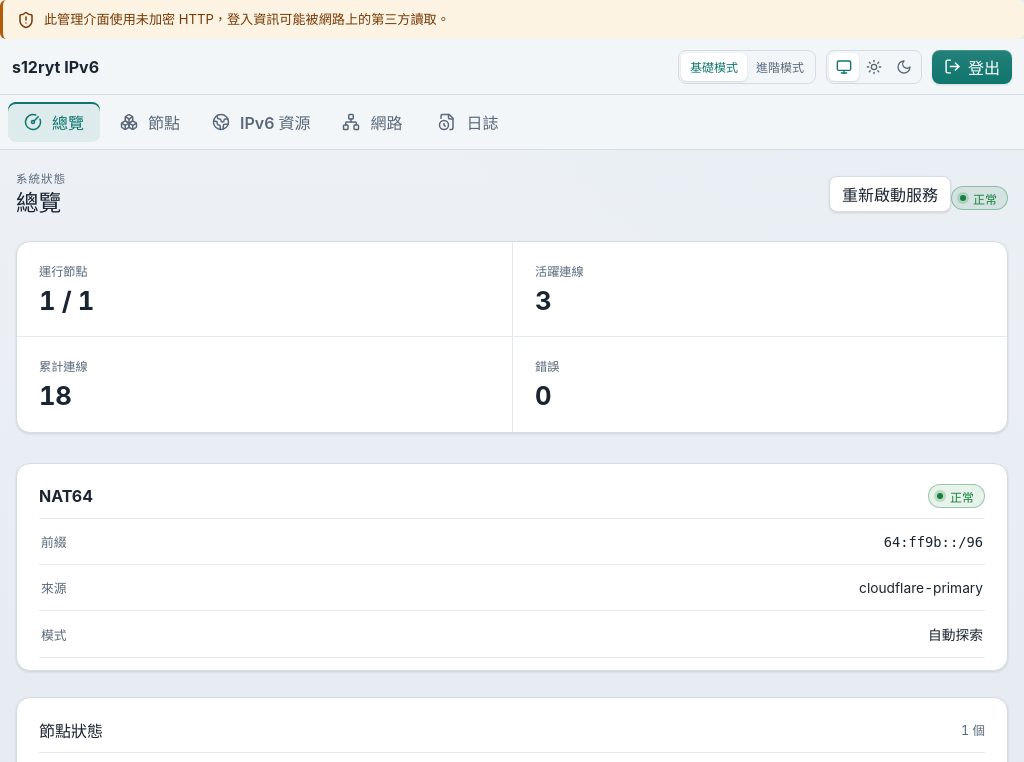
Test: App › 在總覽頁經二次確認重新啟動服務並等待恢復
Expected: the heading "總覽" is shown, [16,188,66,219]
Click the button "重新啟動服務" at (890, 194), box [829,176,951,212]
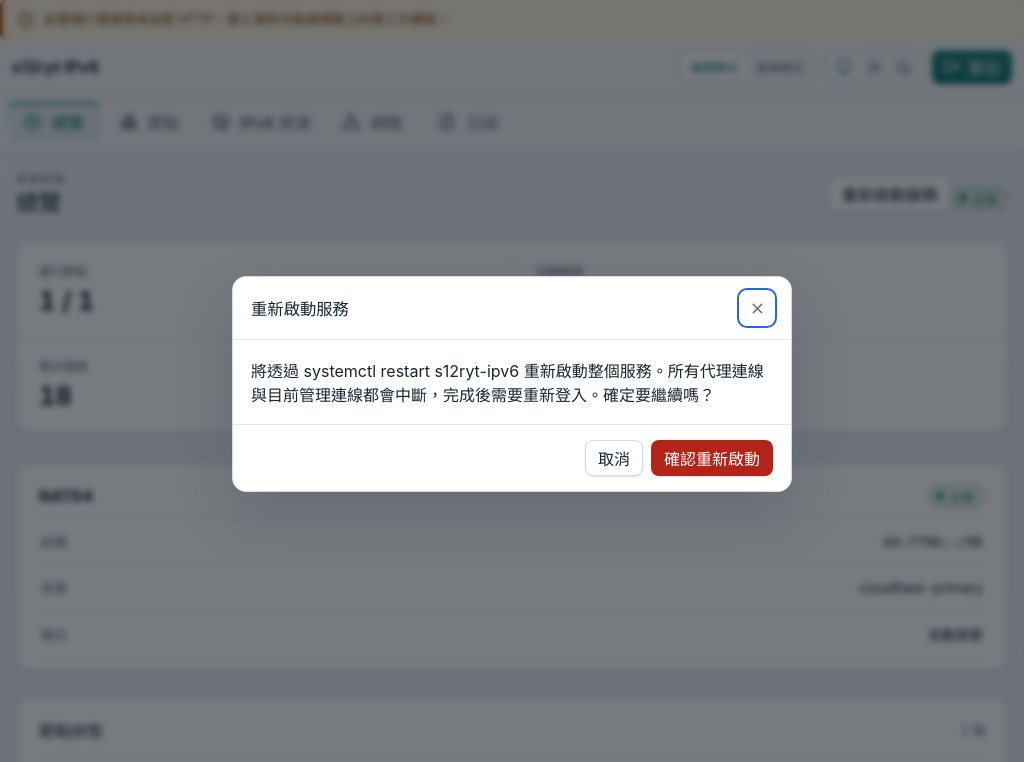
Result: the dialog "重新啟動服務" shows "systemctl" at [251,361,764,405]
Click the button "確認重新啟動" at (712, 458), box [651,440,773,476]
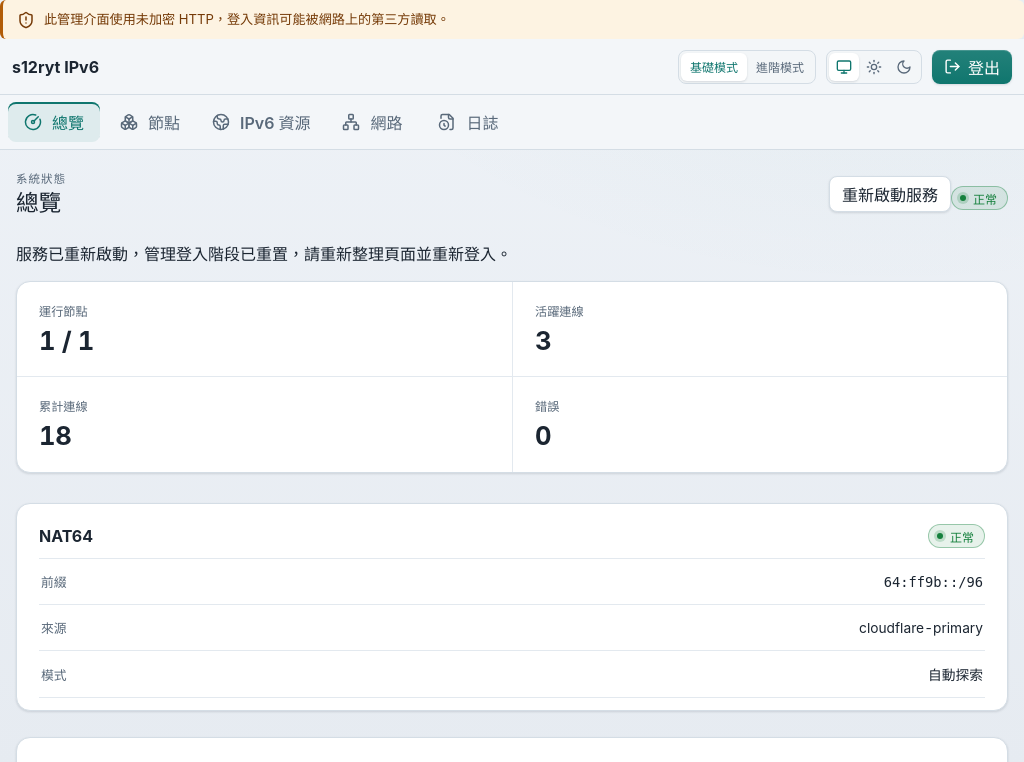
Result: the text "服務已重新啟動，管理登入階段已重置，請重新整理頁面並重新登入。" is shown at [16,244,512,264]
